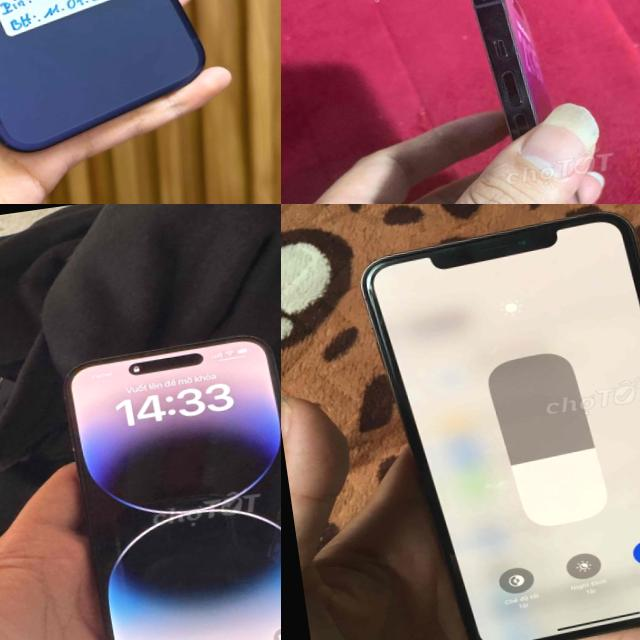scratch: (474, 0, 496, 11)
